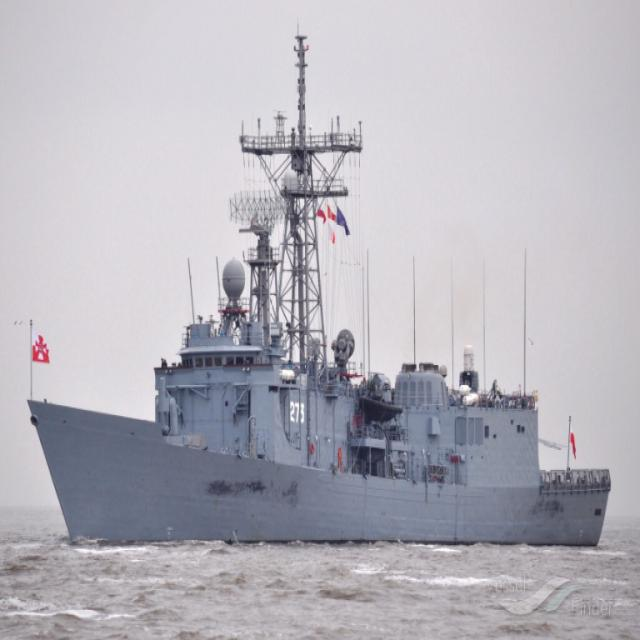OCR: (286, 400, 312, 430)
